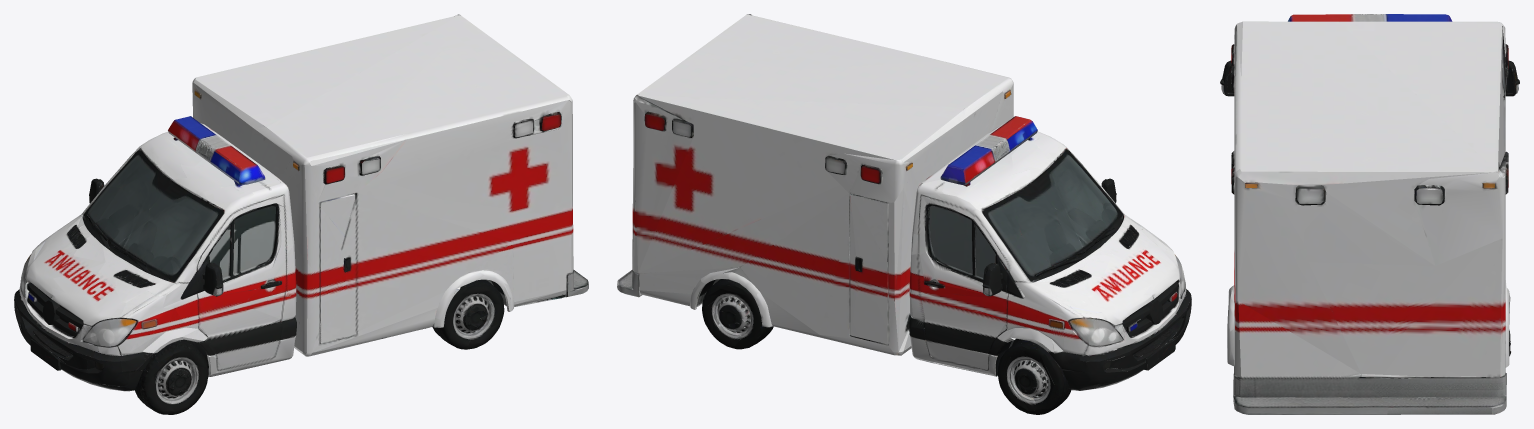
Rendered from ambulance.glb.
3 views of the same model, side by side, from view 1: azimuth 30°, elevation 25°; view 2: azimuth 150°, elevation 25°; view 3: azimuth 270°, elevation 25° (orthographic). The views are drawn at different scales.
Bounding box in the file's own units: 1.9 × 0.8508 × 0.8617.
Materials: 1 (1 with a texture image).
